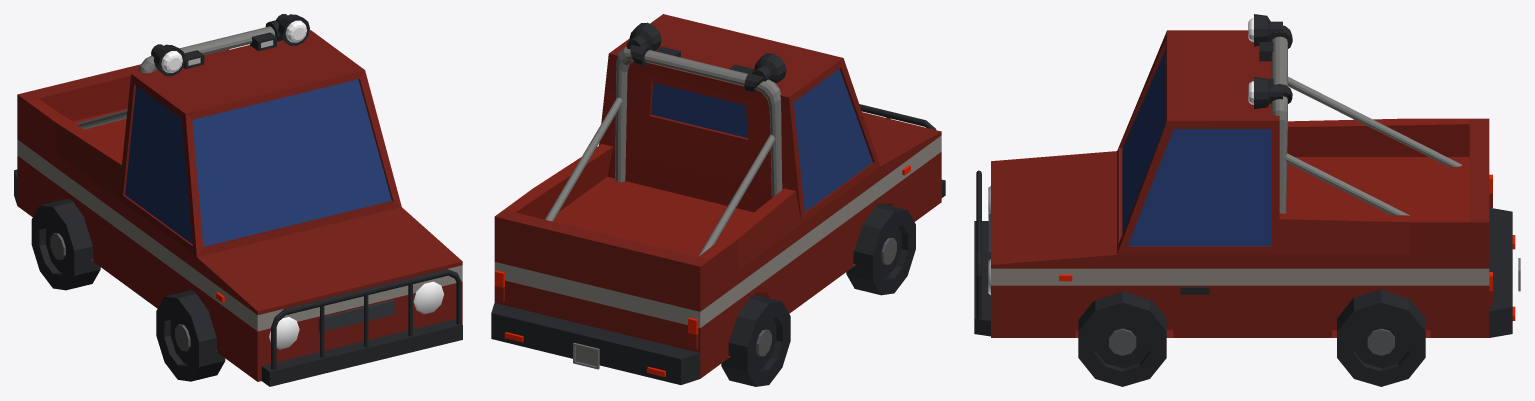
The model's file is Car_6.fbx.
3 views of the same model, side by side, from view 1: azimuth 30°, elevation 25°; view 2: azimuth 150°, elevation 25°; view 3: azimuth 270°, elevation 25° (orthographic). The views are drawn at different scales.
Visible parts, largest first — view 1: Car_6; view 2: Car_6; view 3: Car_6.
Boxes of the visible parts, x1,y1,x2,y2 form: Car_6: (14,14,462,386); Car_6: (491,14,945,386); Car_6: (974,14,1520,386).
Bounding box in the file's own units: 178 × 195 × 344.
